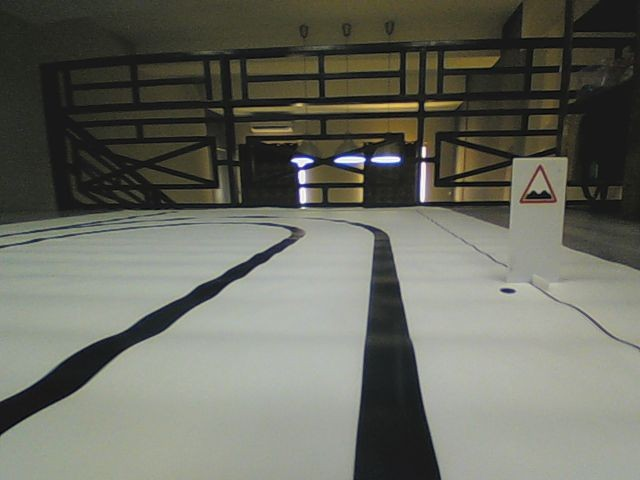Nerov: (518, 162, 558, 204)
